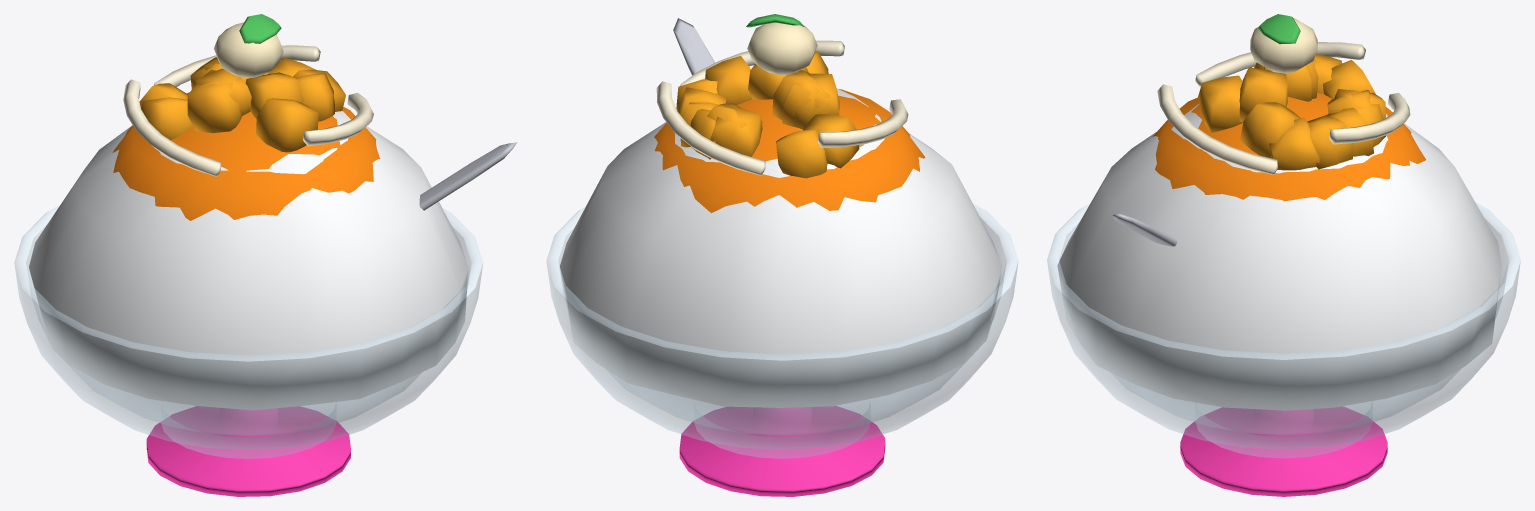
3 views of the same model, side by side, from view 1: azimuth 30°, elevation 25°; view 2: azimuth 150°, elevation 25°; view 3: azimuth 270°, elevation 25° (orthographic).
Visible parts, largest first — view 1: shaved_ice, bowl_outer, foot, syrup, mango (×7), bowl_inner, bowl_rim, milk_drizzle (×3), panna_cotta, spoon, mint; view 2: shaved_ice, bowl_outer, foot, syrup, mango (×11), bowl_inner, bowl_rim, milk_drizzle (×3), panna_cotta, spoon; view 3: shaved_ice, bowl_outer, foot, mango (×11), syrup, bowl_inner, milk_drizzle (×3), bowl_rim, panna_cotta, mint, spoon.
Part boxes in pixels (x1,y1,x2,y2): shaved_ice: [29, 111, 468, 410]; bowl_outer: [15, 265, 482, 458]; foot: [146, 406, 350, 496]; syrup: [112, 92, 380, 220]; mango (×7): [139, 68, 334, 152]; bowl_inner: [26, 225, 471, 435]; bowl_rim: [14, 205, 482, 361]; milk_drizzle (×3): [123, 45, 373, 176]; panna_cotta: [214, 22, 283, 77]; spoon: [419, 142, 517, 210]; mint: [239, 14, 281, 43]; shaved_ice: [560, 88, 1002, 407]; bowl_outer: [547, 264, 1017, 458]; foot: [679, 406, 885, 496]; syrup: [654, 89, 925, 212]; mango (×11): [677, 56, 859, 178]; bowl_inner: [558, 217, 1006, 435]; bowl_rim: [546, 204, 1018, 360]; milk_drizzle (×3): [656, 40, 908, 175]; panna_cotta: [747, 22, 817, 74]; spoon: [673, 18, 714, 75]; shaved_ice: [1057, 103, 1501, 410]; bowl_outer: [1047, 262, 1520, 458]; foot: [1180, 406, 1387, 496]; mango (×11): [1198, 54, 1386, 170]; syrup: [1152, 93, 1425, 201]; bowl_inner: [1059, 219, 1508, 434]; milk_drizzle (×3): [1157, 42, 1410, 174]; bowl_rim: [1047, 203, 1520, 359]; panna_cotta: [1250, 18, 1317, 73]; mint: [1258, 14, 1300, 44]; spoon: [1112, 213, 1177, 246].
Size of the model in its own units: 0.16 by 0.1637 by 0.16.
